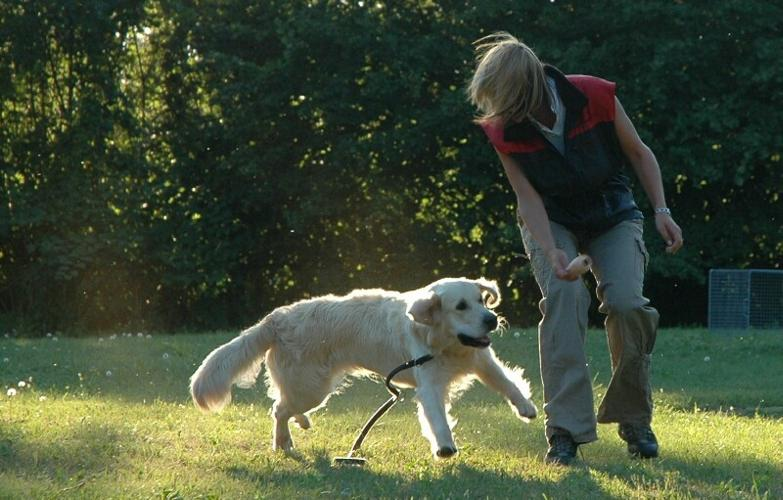person: (471, 39, 685, 465)
